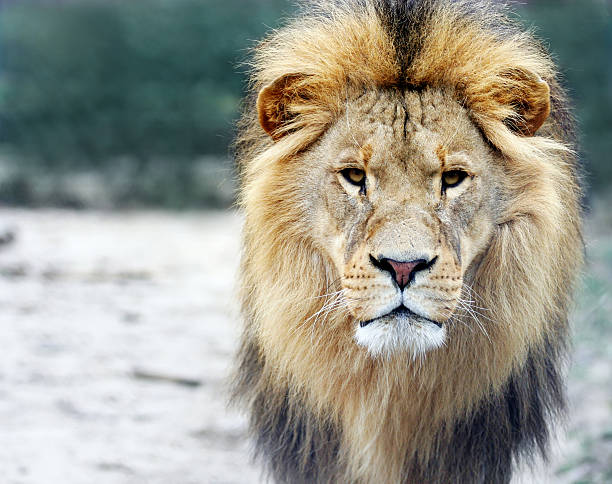lion: (206, 7, 600, 484)
